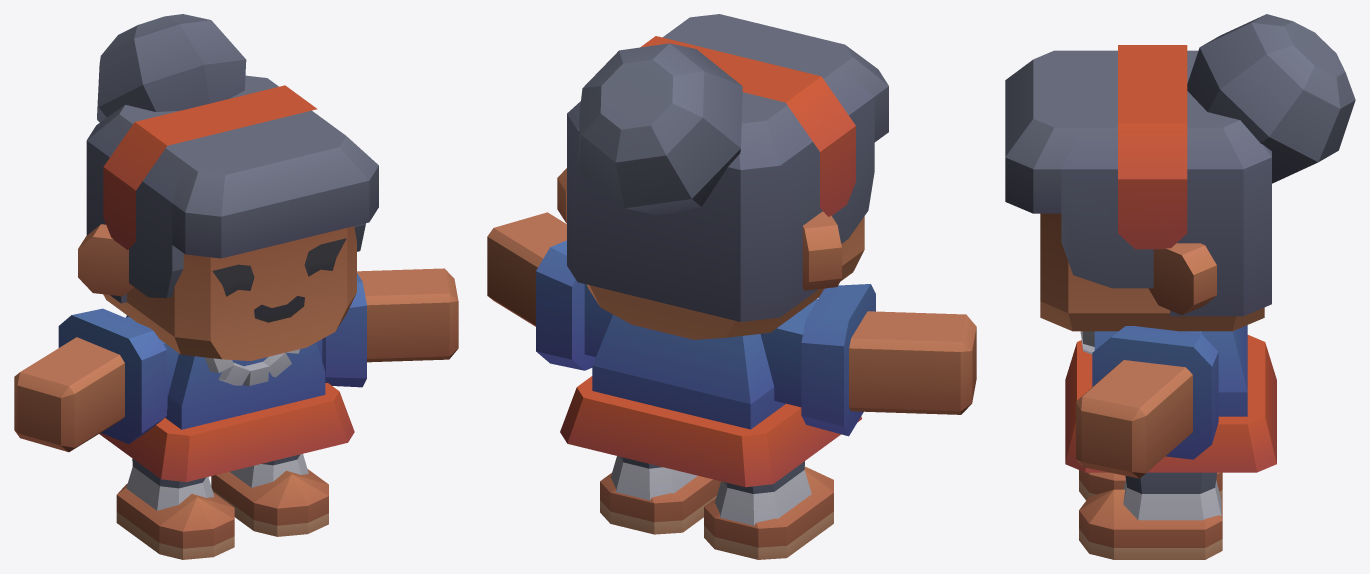
File: citizen-female-c.glb
The picture shows the model from 3 angles, left to right: view 1: azimuth 30°, elevation 25°; view 2: azimuth 150°, elevation 25°; view 3: azimuth 270°, elevation 25°; orthographic projection. The views are drawn at different scales.
Visible parts, largest first — view 1: citizen-female-c; view 2: citizen-female-c; view 3: citizen-female-c.
Part boxes in pixels (<box>): citizen-female-c: <box>14,14,458,559</box>; citizen-female-c: <box>487,14,976,559</box>; citizen-female-c: <box>1005,14,1355,559</box>.
Size of the model in its own units: 0.9892 by 1 by 0.6442.
